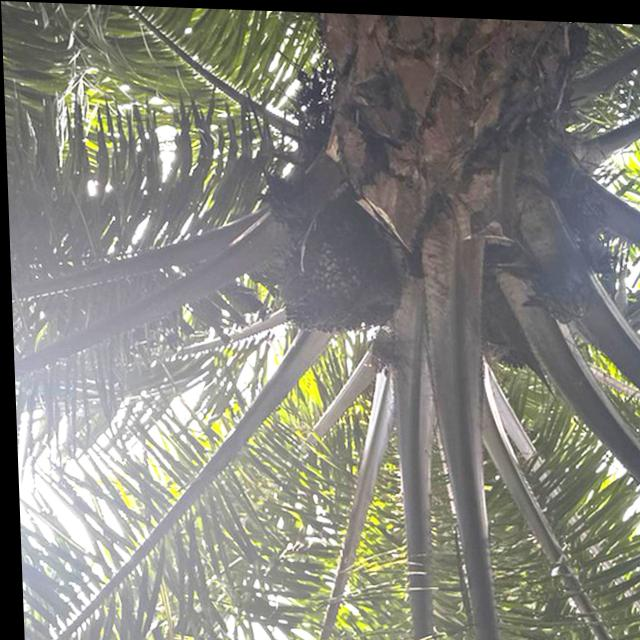unripe: (276, 198, 400, 335)
